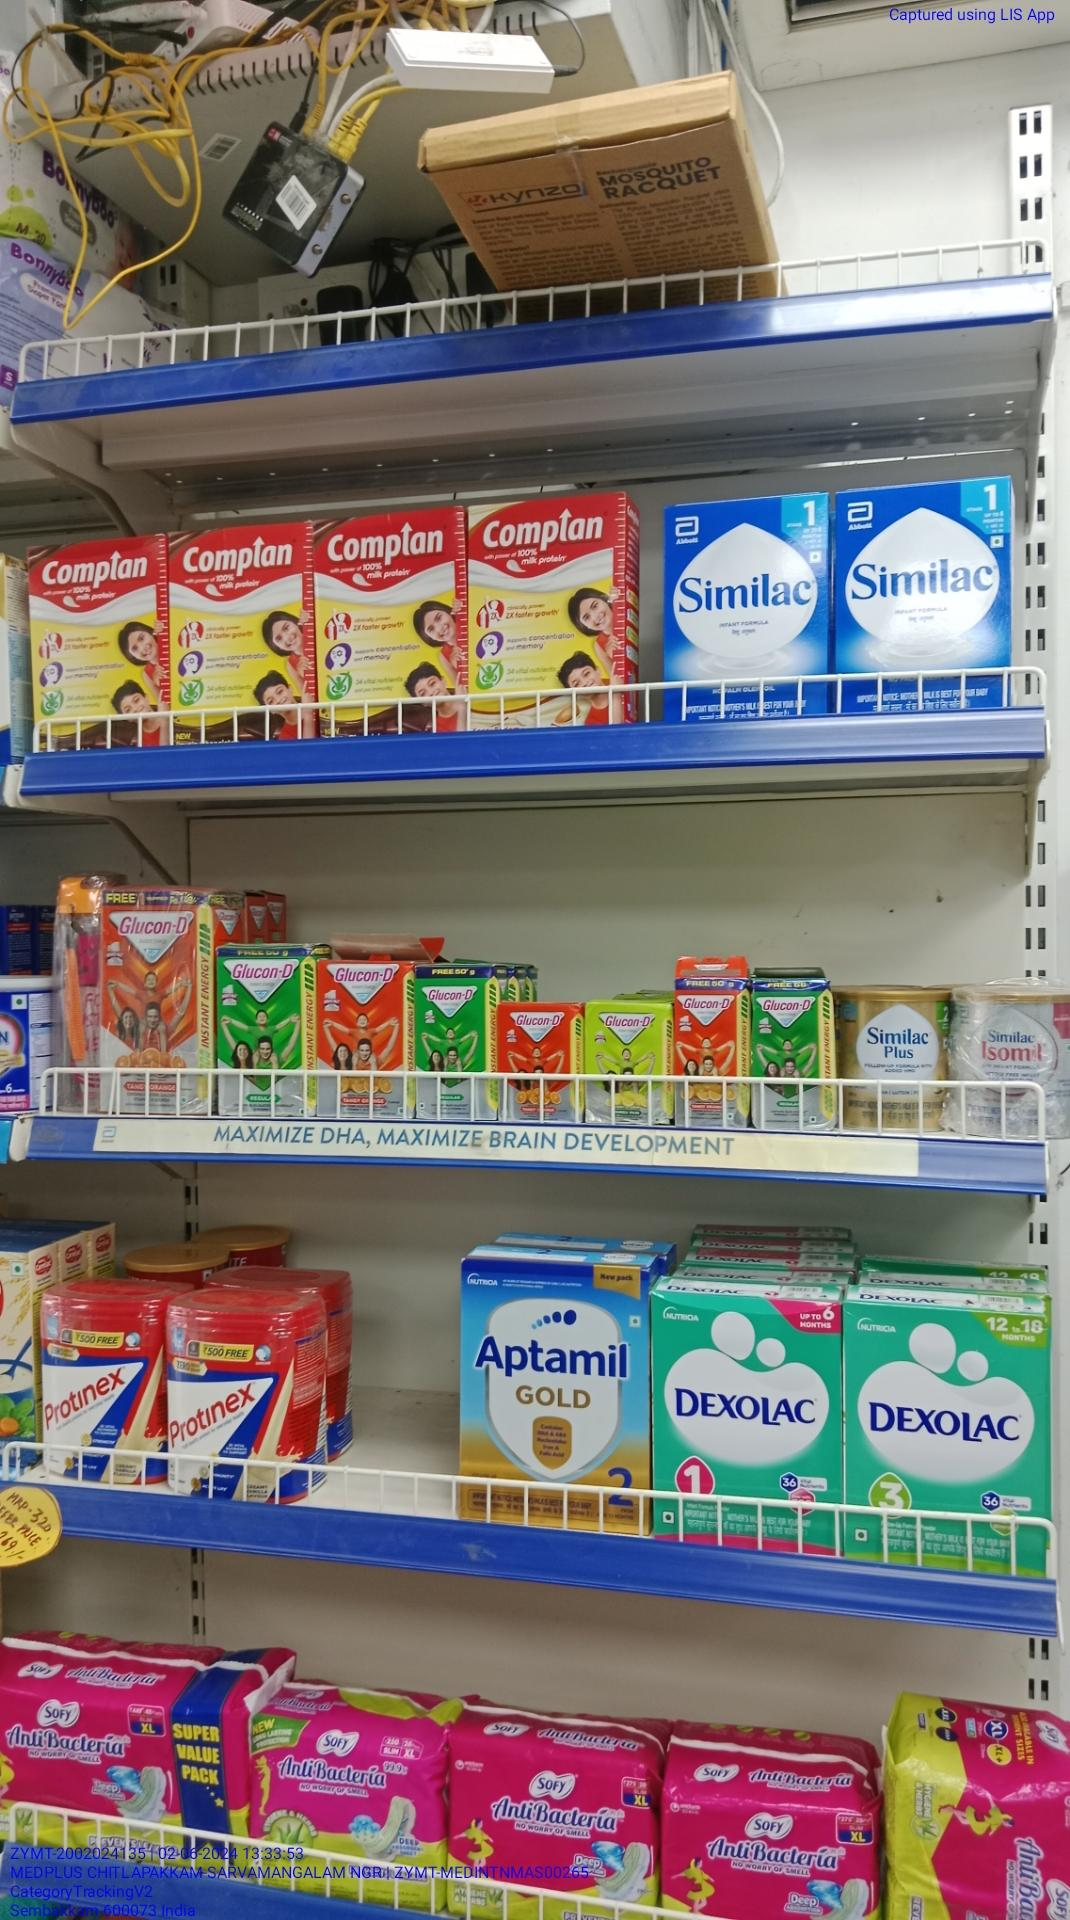PROTINEX_VANILLA_400_G_JAR: (174, 1294, 291, 1502), (46, 1305, 169, 1480)
